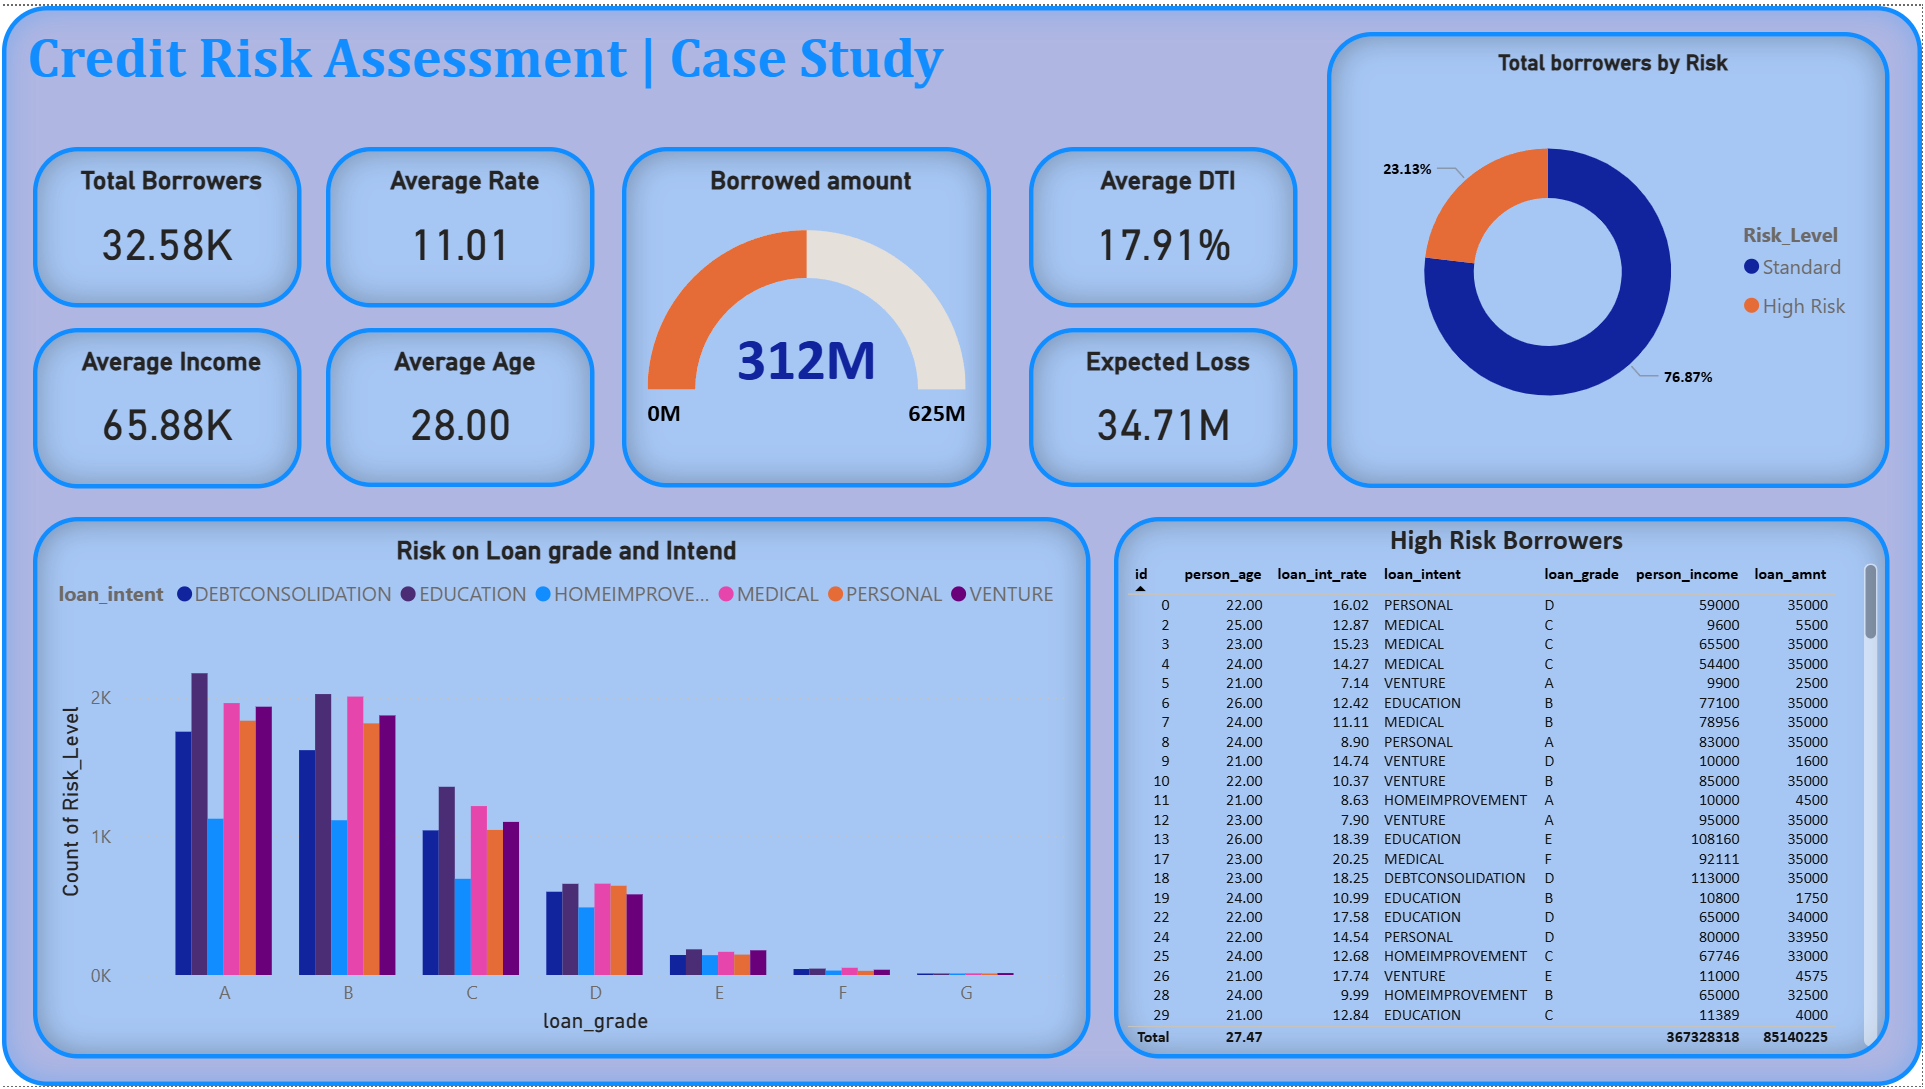

This screenshot's page, from the dashboard's own definition file:
{"tool":"powerbi","page":{"name":"Details","canvas":[1280,720],"ordinal":1},"visuals":[{"type":"textbox","title":"Credit Risk Assessment | Case Study","box":[0,0,1280.1,720],"z":0},{"type":"gauge","title":"Borrowed amount","fields":{"Y":["Sum(Fact_Credit_Risk.loan_amnt)"]},"box":[413.3,94,246.2,227],"z":1000},{"type":"card","title":"Total Borrowers","fields":{"Values":["CountNonNull(Fact_Credit_Risk.loan_amnt)"]},"box":[20.7,94,178.7,107.3],"z":2000},{"type":"tableEx","title":"High Risk Borrowers","fields":{"Values":["Fact_Credit_Risk.id","Avg(Fact_Credit_Risk.person_age)","Fact_Credit_Risk.loan_int_rate","Fact_Credit_Risk.loan_intent","Fact_Credit_Risk.loan_grade","Sum(Fact_Credit_Risk.person_income)","Sum(Fact_Credit_Risk.loan_amnt)"]},"box":[741.3,340.7,517.3,360.7],"z":3000},{"type":"card","title":"Average Income","fields":{"Values":["Avg(Fact_Credit_Risk.person_income)"]},"box":[20.7,214.7,178.7,106.7],"z":4000},{"type":"card","title":"Average Age","fields":{"Values":["Fact_Credit_Risk.Average Age"]},"box":[216,214.7,179.3,106],"z":5000},{"type":"card","title":"Average Rate","fields":{"Values":["Avg(Fact_Credit_Risk.loan_int_rate)"]},"box":[216,94,179.3,107.3],"z":6000},{"type":"card","title":"Expected Loss","fields":{"Values":["Fact_Credit_Risk.Expected Loss"]},"box":[684.7,214.7,179.3,106],"z":7000},{"type":"lineClusteredColumnComboChart","title":"Risk on Loan grade and Intend","fields":{"Series":["Fact_Credit_Risk.loan_intent"],"Y":["CountNonNull(Fact_Credit_Risk.Risk_Level)"],"Category":["Fact_Credit_Risk.loan_grade"]},"box":[20.7,340.7,705.3,360.7],"z":8000},{"type":"donutChart","title":"Total borrowers by Risk","fields":{"Y":["CountNonNull(Fact_Credit_Risk.id)"],"Category":["Fact_Credit_Risk.Risk_Level"]},"box":[883.3,17.3,375.3,304],"z":9000},{"type":"card","title":"Average DTI","fields":{"Values":["Avg(Fact_Credit_Risk.Stressed_DTI)"]},"box":[684.7,94,179.3,107.3],"z":10000}]}

Visuals, with their boxes in screenshot pixels (x1, y1, x2, y2), scaled from the page's 1280x720 canvas onto the 1925x1089 screenshot:
"Credit Risk Assessment | Case Study" textbox: Rect(0, 0, 1924, 1088)
"Borrowed amount" gauge: Rect(622, 142, 992, 486)
"Total Borrowers" card: Rect(31, 142, 300, 304)
"High Risk Borrowers" tableEx: Rect(1115, 515, 1893, 1061)
"Average Income" card: Rect(31, 325, 300, 486)
"Average Age" card: Rect(325, 325, 594, 485)
"Average Rate" card: Rect(325, 142, 594, 304)
"Expected Loss" card: Rect(1030, 325, 1299, 485)
"Risk on Loan grade and Intend" lineClusteredColumnComboChart: Rect(31, 515, 1092, 1061)
"Total borrowers by Risk" donutChart: Rect(1328, 26, 1893, 486)
"Average DTI" card: Rect(1030, 142, 1299, 304)
